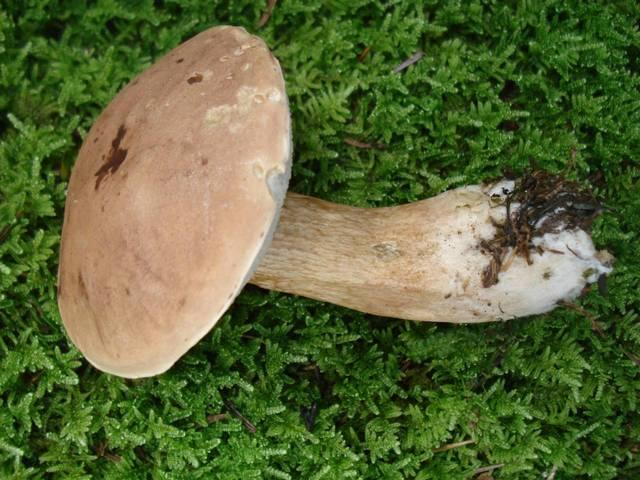Non-edible Mushroom: (54, 22, 615, 379)
